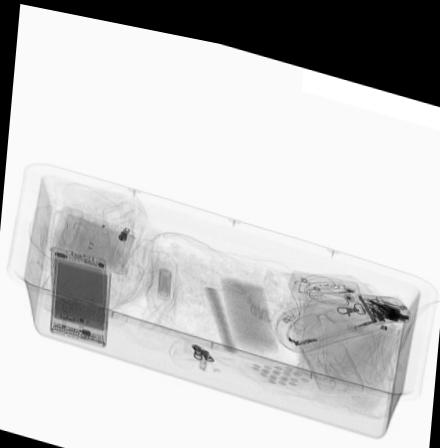Powerbank: (46, 253, 112, 343)
